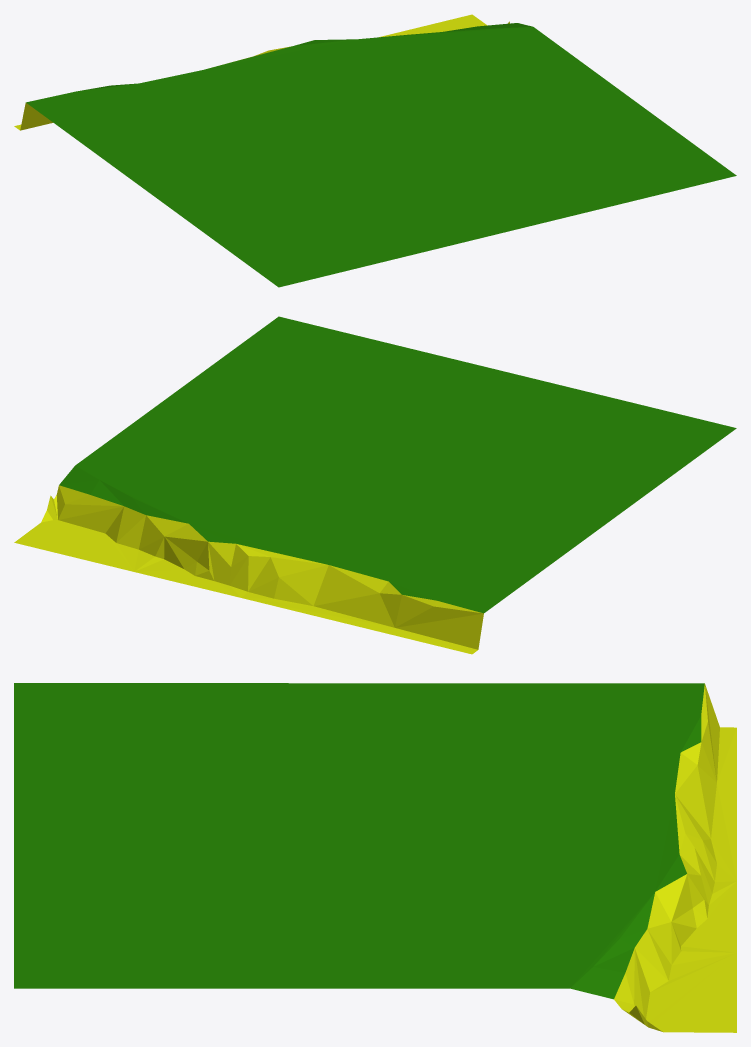
3 renders of one model, top to bottom at view 1: azimuth 30°, elevation 25°; view 2: azimuth 150°, elevation 25°; view 3: azimuth 270°, elevation 25°, orthographic. The views are drawn at different scales.
Parts seen in each view (by area): view 1: TerrainVeryHigh.011; view 2: TerrainVeryHigh.011; view 3: TerrainVeryHigh.011.
Part boxes in pixels (x1=…): TerrainVeryHigh.011: x1=14, y1=14, x2=736, y2=287; TerrainVeryHigh.011: x1=14, y1=316, x2=736, y2=654; TerrainVeryHigh.011: x1=14, y1=683, x2=736, y2=1032.
Size of the model in its own units: 1252 by 1252 by 85.
